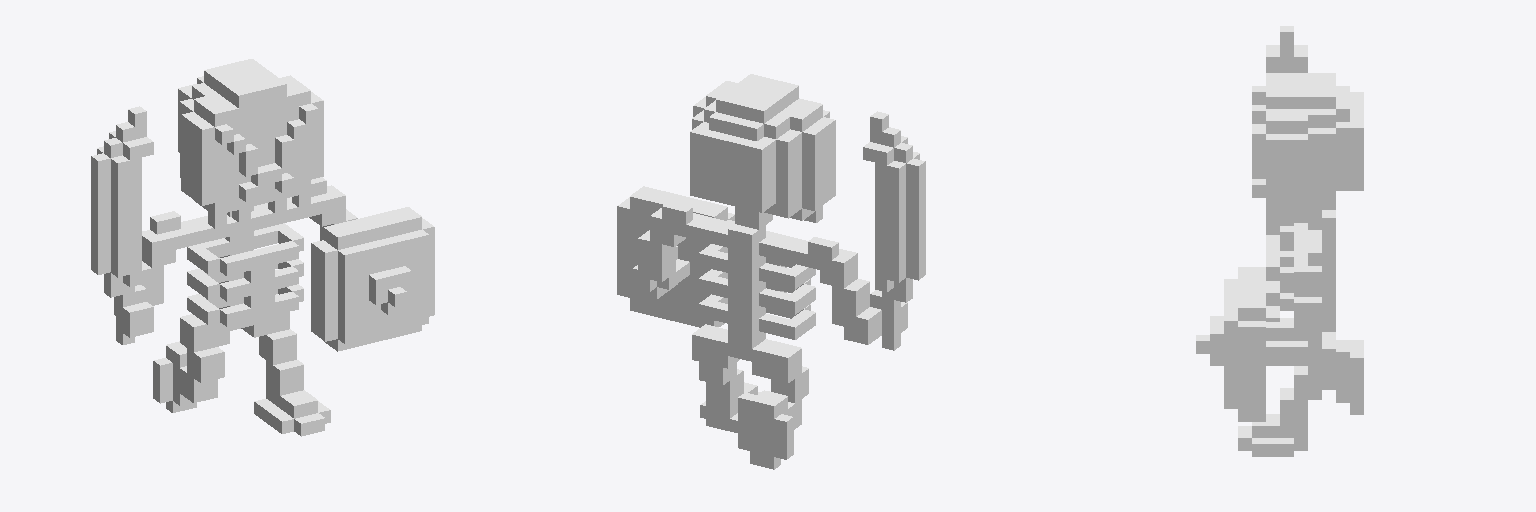
Rendered from 3DSkeleton3.obj.
3 renders of one model, left to right at view 1: azimuth 30°, elevation 25°; view 2: azimuth 150°, elevation 25°; view 3: azimuth 270°, elevation 25°, orthographic.
Visible parts, largest first — view 1: Skeleton-1; view 2: Skeleton-1; view 3: Skeleton-1.
Boxes of the visible parts, box(x1,y1,x2,y2) form: Skeleton-1: box(91, 59, 434, 436); Skeleton-1: box(617, 74, 925, 469); Skeleton-1: box(1196, 26, 1363, 456).
Bounding box in the file's own units: 2.6 × 2.7 × 1.2.